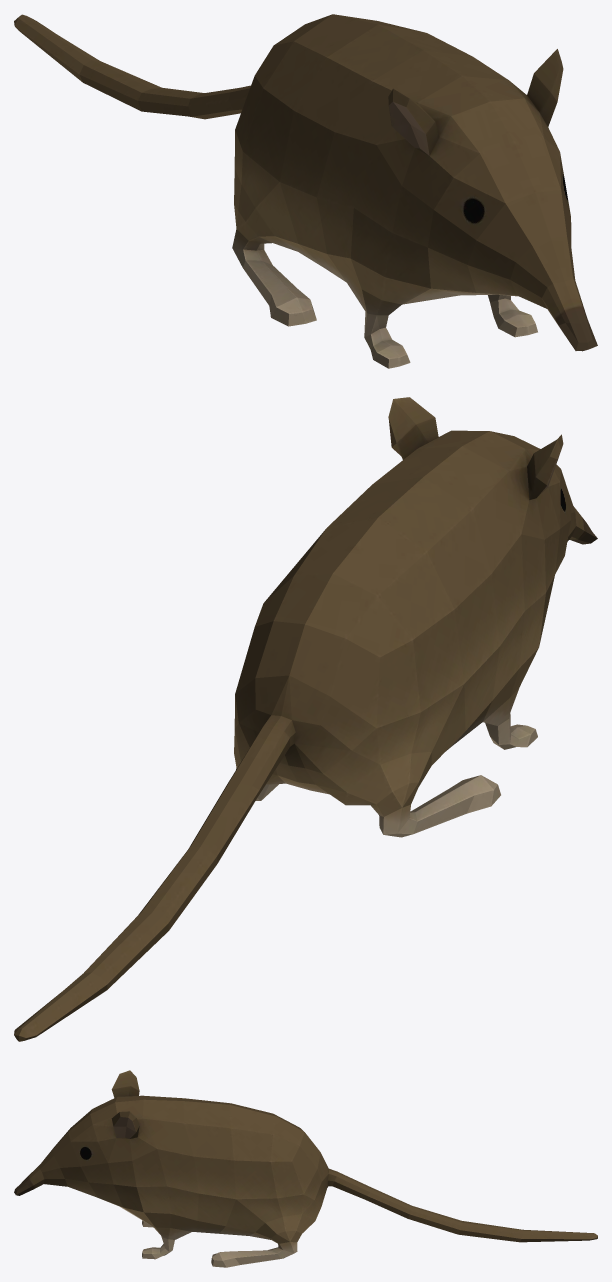
File: fnO8bkcjBC3.glb
3 views of the same model, one above another, from view 1: azimuth 30°, elevation 25°; view 2: azimuth 150°, elevation 25°; view 3: azimuth 270°, elevation 25° (orthographic). The views are drawn at different scales.
Parts seen in each view (by area): view 1: DesertShrew_Mesh; view 2: DesertShrew_Mesh; view 3: DesertShrew_Mesh.
Boxes of the visible parts, left/top/right/bottom form: DesertShrew_Mesh: left=14, top=14, right=597, bottom=368; DesertShrew_Mesh: left=14, top=397, right=597, bottom=1041; DesertShrew_Mesh: left=14, top=1070, right=597, bottom=1267.
Bounding box in the file's own units: 0.7898 × 1 × 3.54.
1 material, 1 textured.
